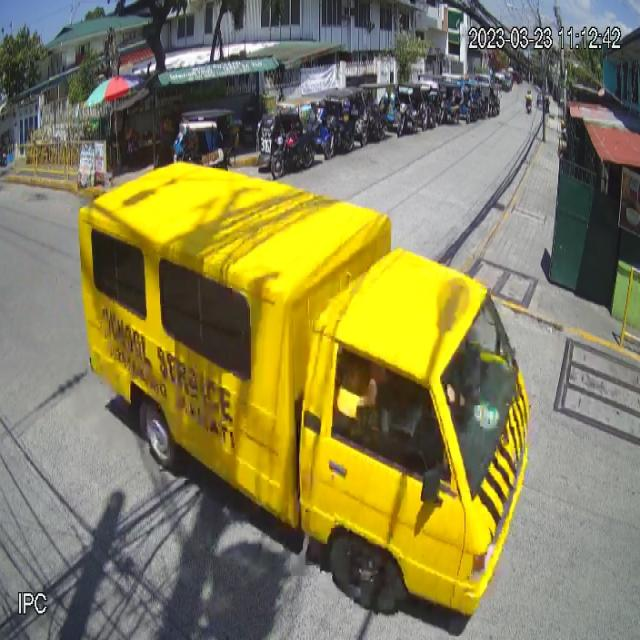Van: (77, 159, 529, 619)
